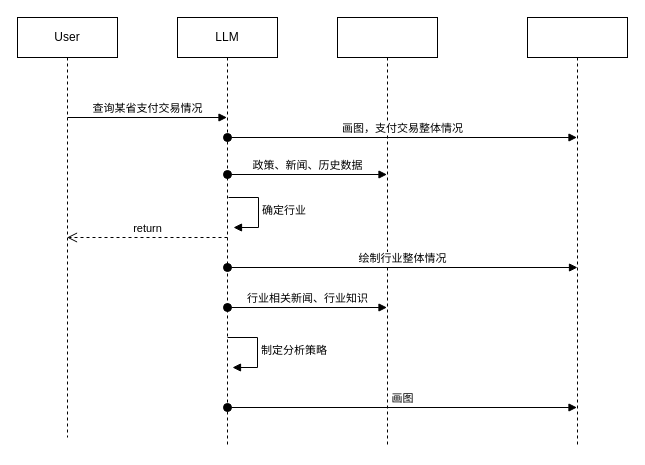
Image size: 645x465. Some labels were removed from this diagram. Here are the shapes that lost their labels. From the top down, the box of each, then its label:
(336, 16, 438, 448): 知识库
(526, 16, 628, 448): tools(数据分析，画图)
